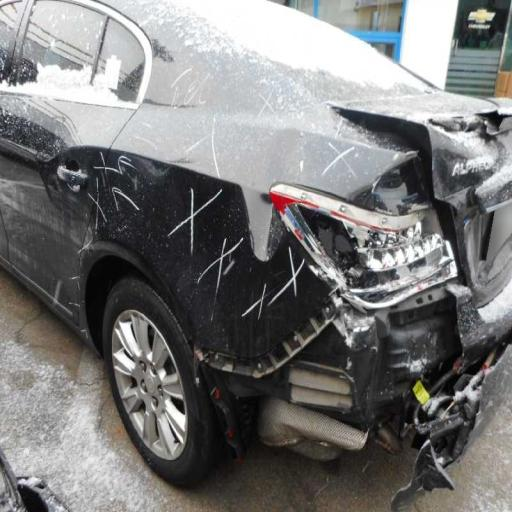broken: (211, 249, 496, 497)
scratch: (1, 0, 412, 238)
